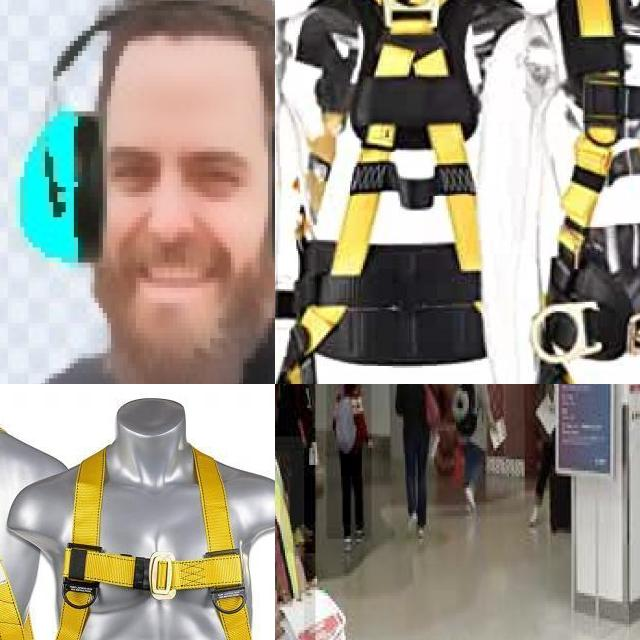Ear-protection: (0, 89, 275, 287)
Harness: (295, 0, 524, 366), (536, 0, 640, 384), (56, 448, 253, 640)
person: (326, 384, 373, 542), (450, 384, 501, 522), (396, 384, 435, 553), (280, 384, 315, 553)
shoes: (526, 502, 545, 530), (462, 483, 478, 512), (402, 508, 416, 533), (340, 532, 355, 554), (353, 522, 367, 544), (416, 522, 426, 550)
